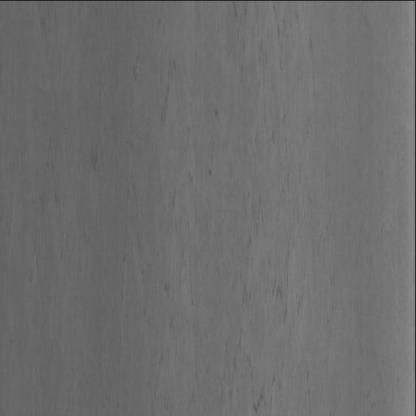silk_spot: (130, 0, 317, 397)
